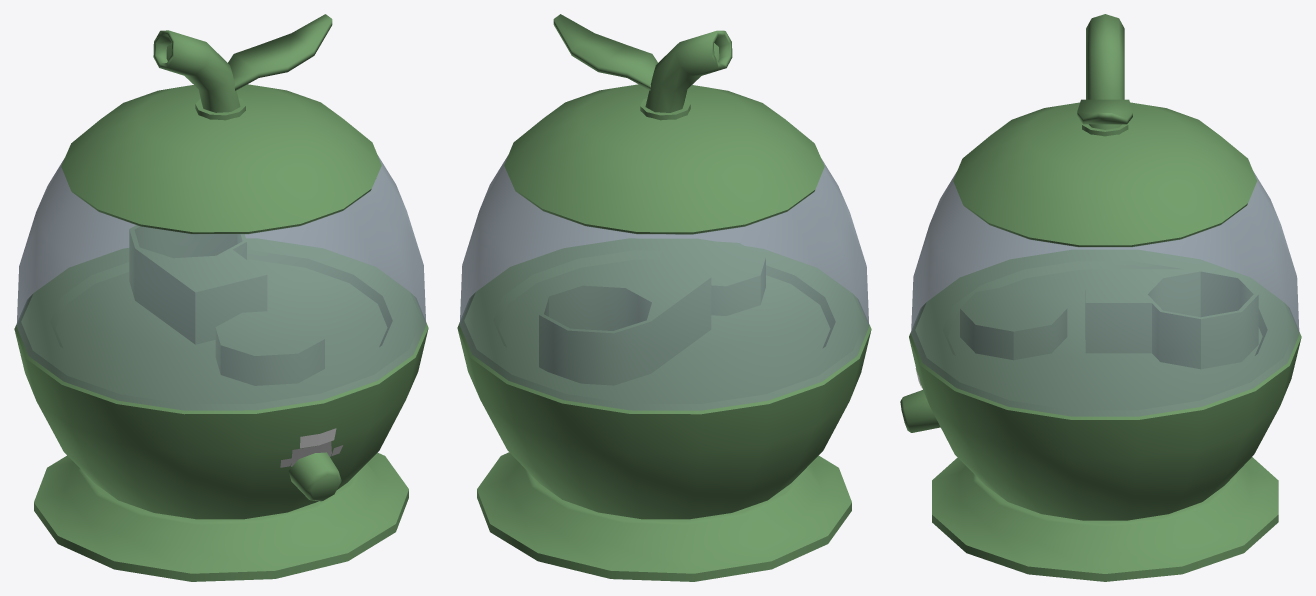
The picture shows the model from 3 angles, left to right: view 1: azimuth 30°, elevation 25°; view 2: azimuth 150°, elevation 25°; view 3: azimuth 270°, elevation 25°; orthographic projection. The views are drawn at different scales.
Visible parts, largest first — view 1: XF002I176758; view 2: XF002I176758; view 3: XF002I176758.
Part boxes in pixels (left/top/right/bottom): XF002I176758: left=14, top=14, right=428, bottom=581; XF002I176758: left=457, top=14, right=871, bottom=581; XF002I176758: left=900, top=14, right=1301, bottom=581.
Size of the model in its own units: 26.02 by 26.57 by 34.09.
